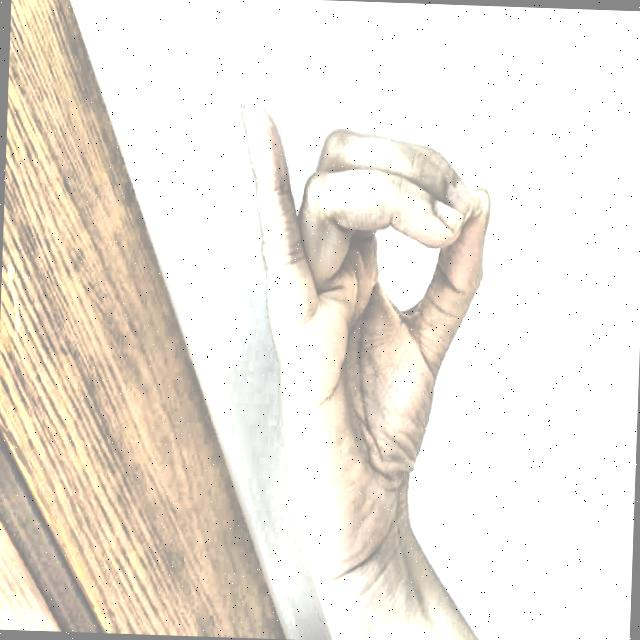Ou: (197, 56, 512, 580)
